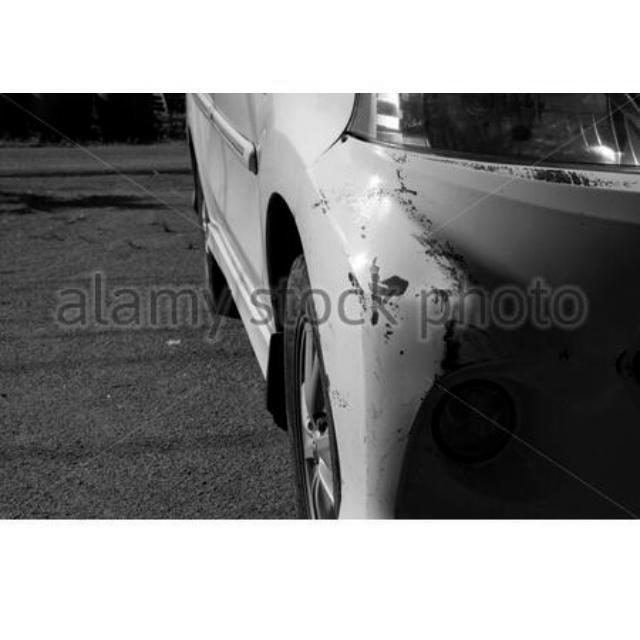front-bumper-dent: (275, 133, 639, 502)
